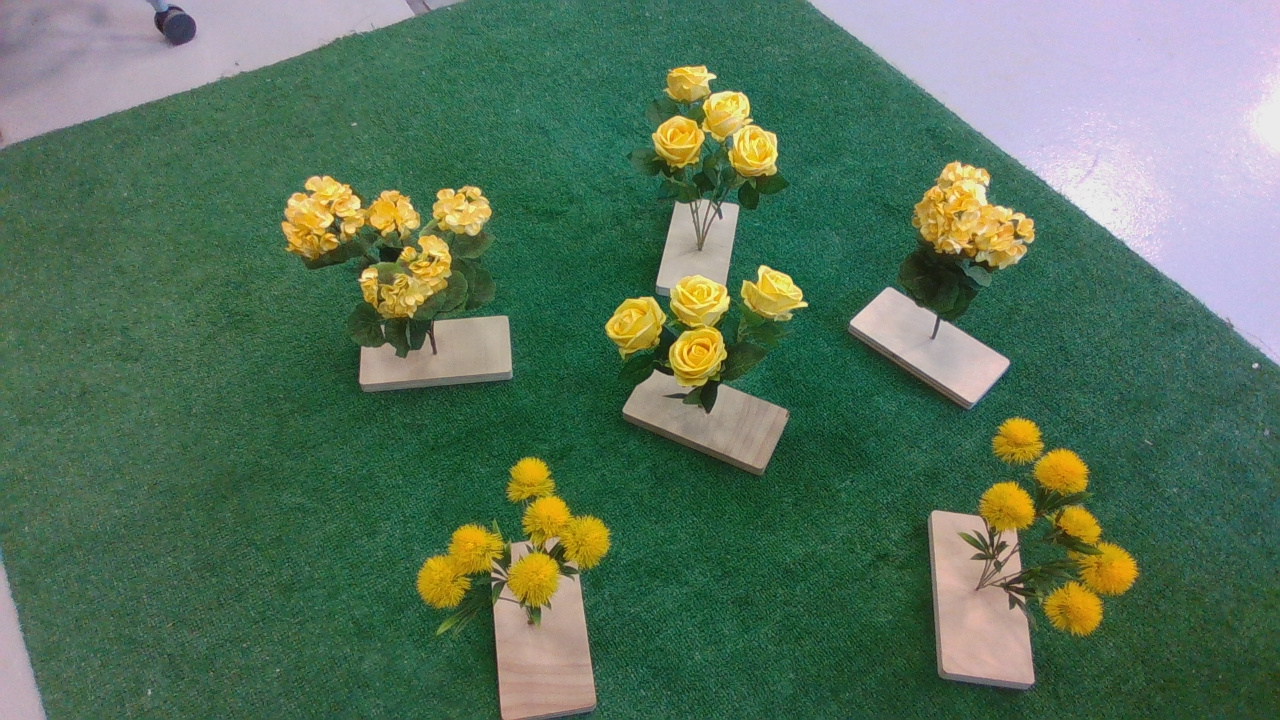dandelion: (972, 415, 1149, 644), (416, 458, 625, 651)
geranium: (264, 171, 511, 363), (898, 160, 1044, 326)
rose: (604, 263, 825, 423), (635, 63, 800, 217)
